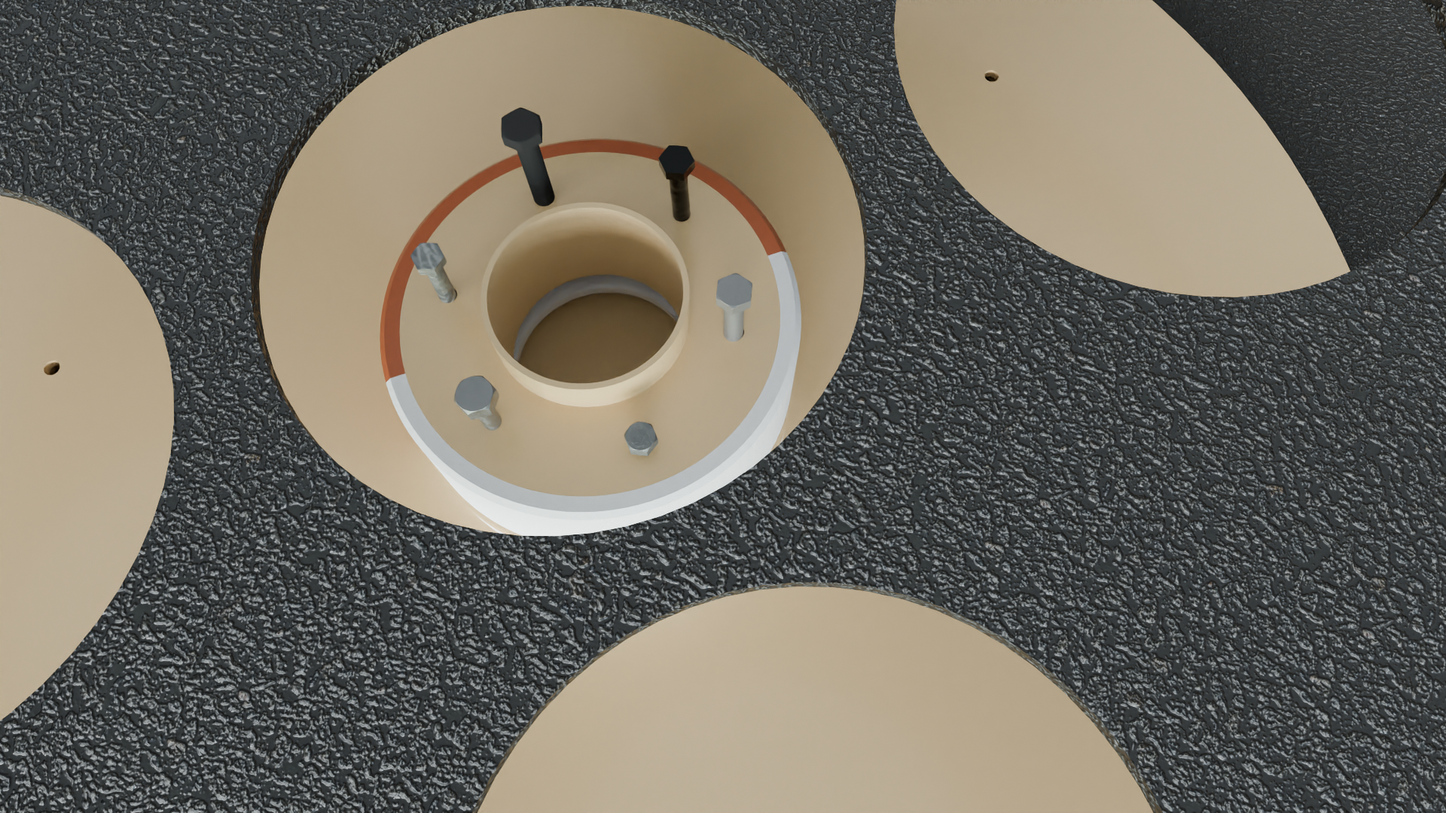bolt: (453, 376, 496, 415), (501, 108, 540, 145), (716, 273, 752, 309), (658, 145, 694, 174), (624, 422, 657, 452), (410, 242, 444, 269)
